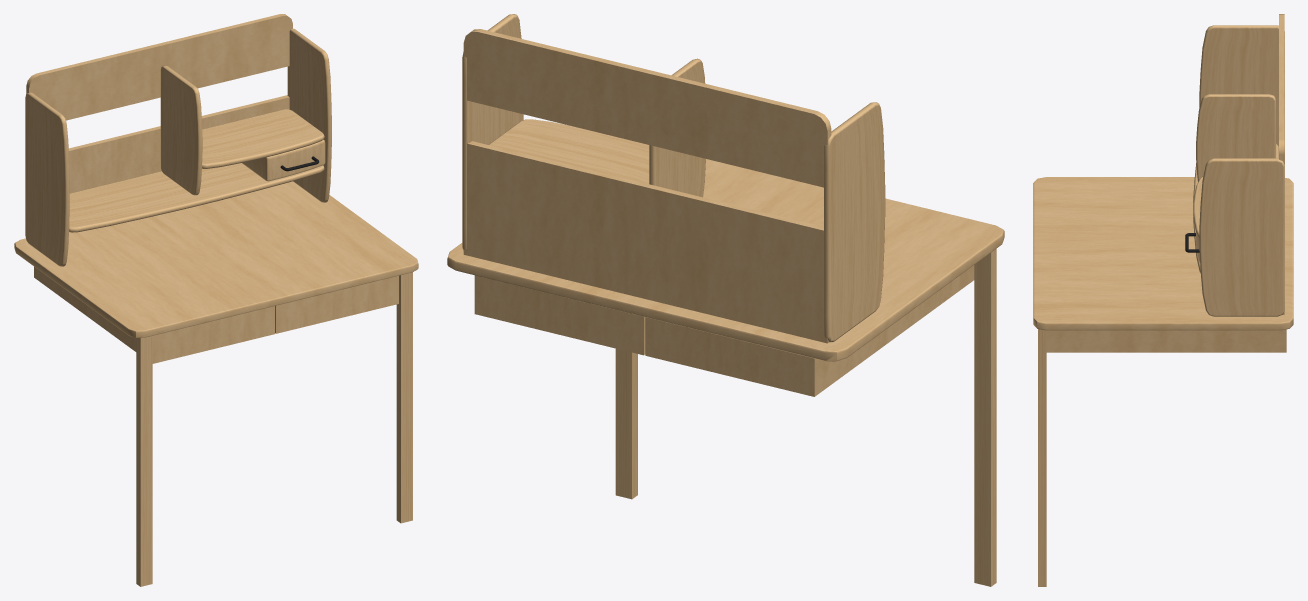
The model's file is stage1_5.fbx.
3 renders of one model, left to right at view 1: azimuth 30°, elevation 25°; view 2: azimuth 150°, elevation 25°; view 3: azimuth 270°, elevation 25°, orthographic. The views are drawn at different scales.
Visible parts, largest first — view 1: desk1; view 2: desk1; view 3: desk1.
Part boxes in pixels (x1=…): desk1: x1=14, y1=14, x2=418, y2=586; desk1: x1=447, y1=14, x2=1004, y2=586; desk1: x1=1033, y1=14, x2=1293, y2=586.
Size of the model in its own units: 1200 by 1680 by 900.
2 materials, 2 textured.
